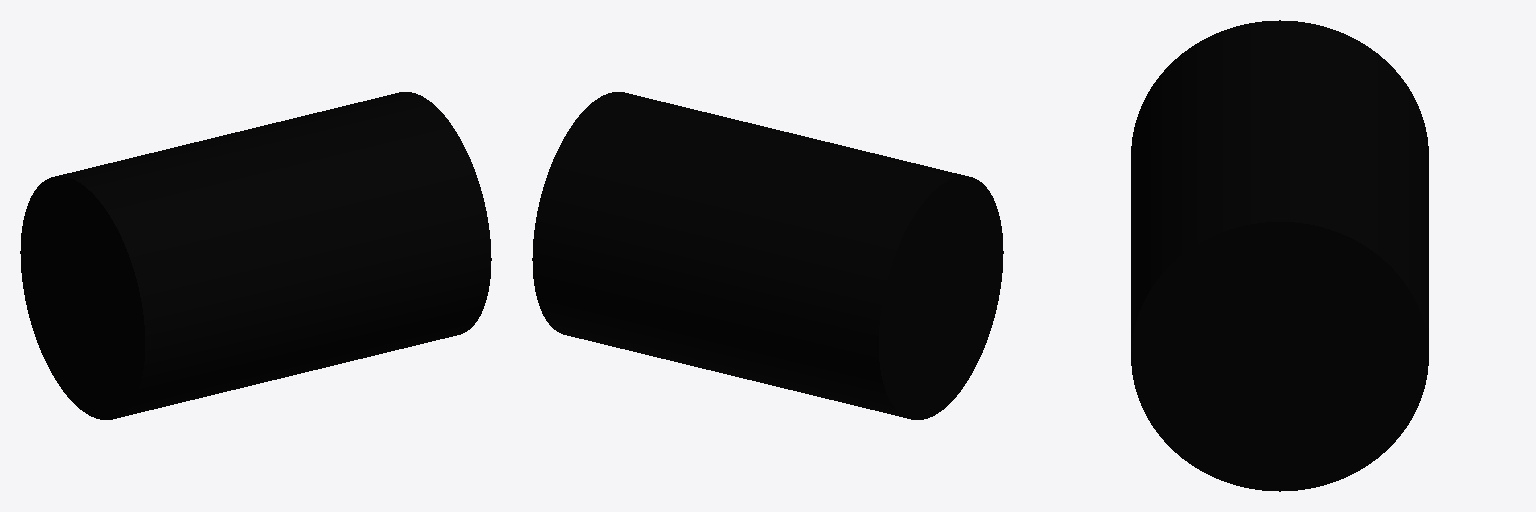
The robot description file, URDF, robot "luxtac_cylinder_horz":
<?xml version="1.0"?>
<!-- cylinder, long axis at 90 deg in the pad plane.
     Generated by scripts/make_luxtac_objs.py. Metres, centred on x,y, cross-section
     centre at z = 0.0452 (the pad centre once staged). Long axis at 90 deg in
     the x-z plane: 0 = along the finger, 90 = across it. Length 40mm,
     mass 1.500000 kg.

     The link is named 'cube' because TacSL resolves the indenter link by name. -->
<robot name="luxtac_cylinder_horz">
    <link name="cube">
        <visual>
            <geometry><mesh filename="../mesh/luxtac_cylinder_horz.obj"/></geometry>
            <material name="black"><color rgba="0.05 0.05 0.05 1"/></material>
        </visual>
        <collision>
            <geometry><mesh filename="../mesh/luxtac_cylinder_horz.obj"/></geometry>
            <sdf resolution="256"/>  <!-- 0.156mm voxels -->
        </collision>
        <inertial>
            <origin rpy="0 0 0" xyz="0 0 0.0452"/>
            <mass value="1.500000"/>
            <inertia ixx="1.171039e-04" ixy="0" ixz="0" iyy="2.585519e-04" iyz="0" izz="2.585519e-04"/>
        </inertial>
    </link>
</robot>

--- What the picture shows (computed from the rendered views, not written in the file) ---
Views: 3 orthographic renders of the robot side by side, from view 1: azimuth 30°, elevation 25°; view 2: azimuth 150°, elevation 25°; view 3: azimuth 270°, elevation 25°.
Robot: luxtac_cylinder_horz — 1 links, 0 joints (none); root link cube; default pose: all joints at 0.
Visible links, largest first — view 1: cube; view 2: cube; view 3: cube.
Boxes of the visible links, x1,y1,x2,y2 form: cube: (20, 92, 491, 419); cube: (532, 92, 1003, 419); cube: (1131, 20, 1428, 491).
Size in the robot's own frame: 0.04 by 0.025 by 0.025 metres.
1 mesh visuals loaded from 1 distinct referenced files (1 OBJ).
